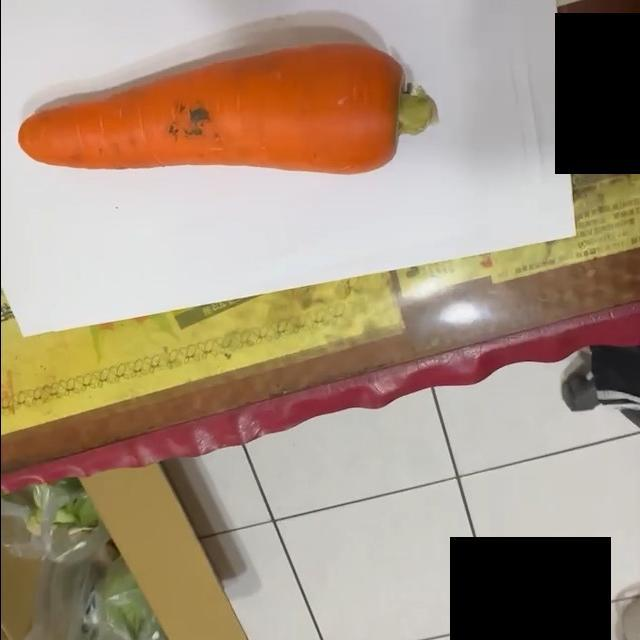carrot: (13, 44, 443, 179)
